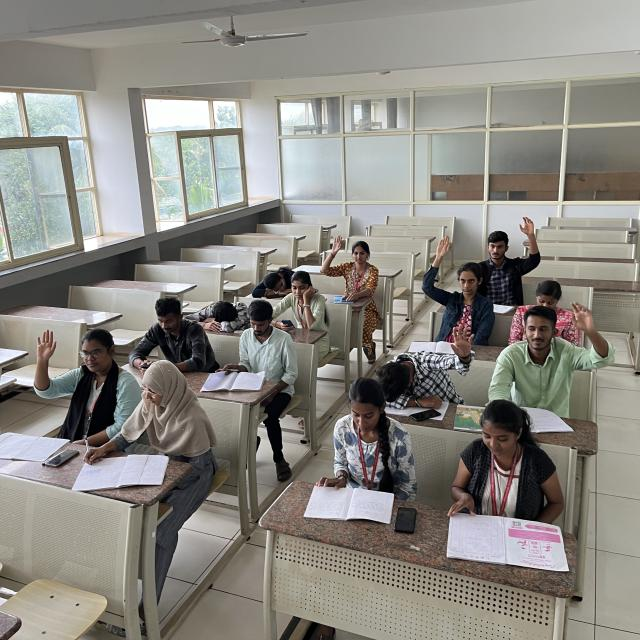Hand Rising: (494, 298, 604, 436), (30, 327, 135, 421), (425, 233, 493, 332), (478, 216, 538, 300), (318, 233, 379, 292)
Reading: (448, 406, 548, 556), (322, 374, 392, 512)
Sleeping: (371, 342, 451, 405), (188, 293, 253, 334), (250, 267, 304, 297)
Using Phone: (126, 298, 198, 376), (509, 273, 576, 347), (272, 273, 331, 337)
Writing: (81, 358, 198, 482), (214, 303, 280, 388)
